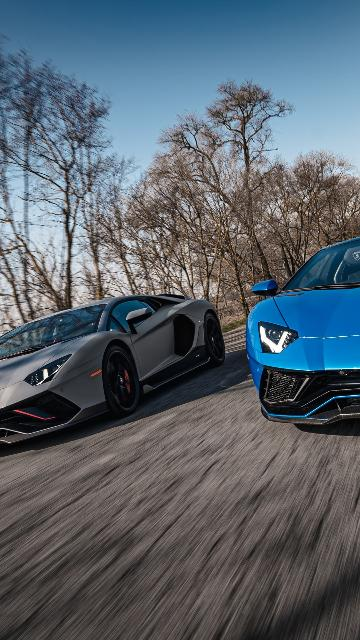lamborghini: (0, 294, 226, 448), (244, 236, 360, 426)
